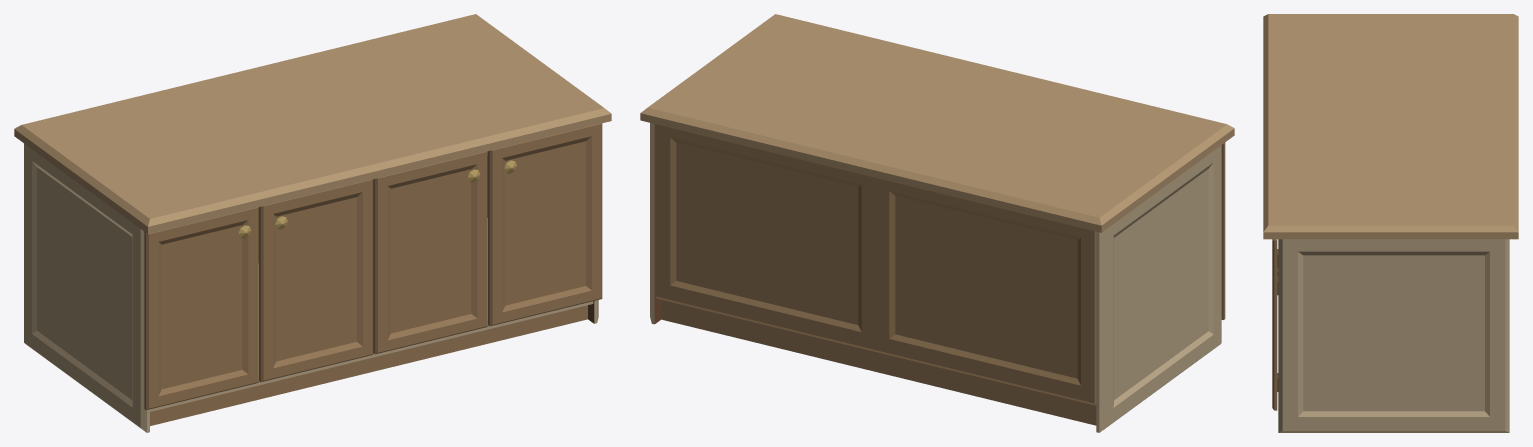
Rendered from kitchen-island-47f4c8.glb.
The picture shows the model from 3 angles, left to right: view 1: azimuth 30°, elevation 25°; view 2: azimuth 150°, elevation 25°; view 3: azimuth 270°, elevation 25°; orthographic projection. The views are drawn at different scales.
Parts seen in each view (by area): view 1: kitchen-island, door-l, door-r, door-l2, door-r2; view 2: kitchen-island, door-l; view 3: kitchen-island, door-r2.
Boxes of the visible parts, bbox=[...] form: kitchen-island: bbox=[14, 14, 611, 432]; door-l: bbox=[144, 207, 258, 410]; door-r: bbox=[259, 179, 373, 382]; door-l2: bbox=[373, 151, 487, 354]; door-r2: bbox=[488, 123, 602, 326]; kitchen-island: bbox=[640, 14, 1234, 432]; door-l: bbox=[1221, 142, 1225, 319]; kitchen-island: bbox=[1263, 14, 1518, 432]; door-r2: bbox=[1272, 239, 1278, 410].
Bounding box in the file's own units: 2 × 0.9 × 1.
